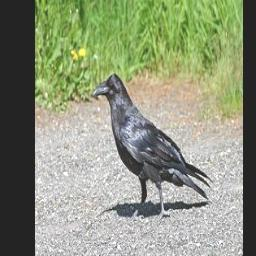Crow: (93, 72, 215, 224)
